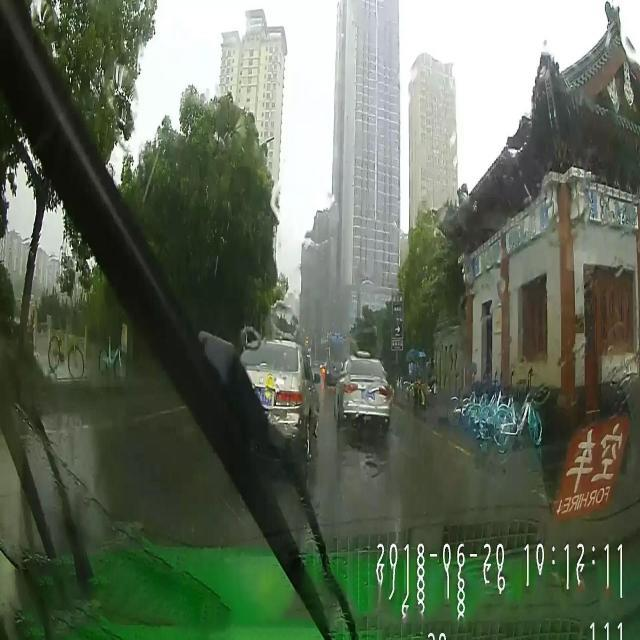car: (234, 340, 320, 467), (334, 351, 392, 431)
